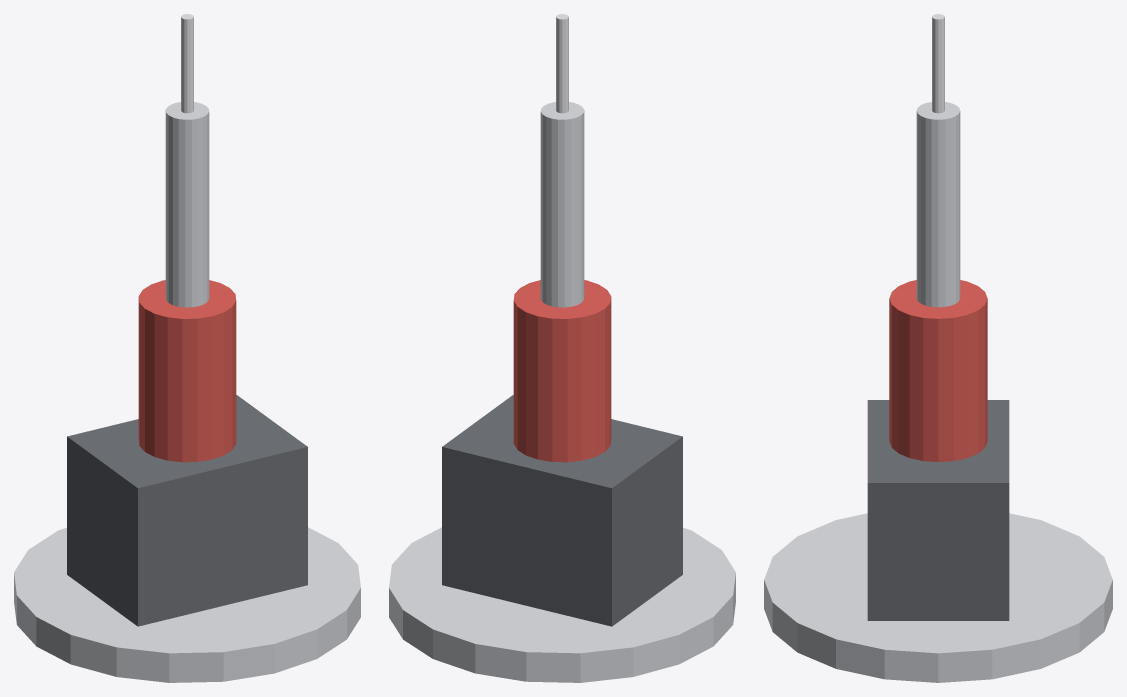
Rendered from iron.glb.
The picture shows the model from 3 angles, left to right: view 1: azimuth 30°, elevation 25°; view 2: azimuth 150°, elevation 25°; view 3: azimuth 270°, elevation 25°; orthographic projection.
Visible parts, largest first — view 1: block, plate, handle, sleeve, tip; view 2: block, plate, handle, sleeve, tip; view 3: plate, block, handle, sleeve, tip.
Boxes of the visible parts, box(x1,y1,x2,y2) form: block: box(67, 395, 307, 626); plate: box(14, 527, 360, 682); handle: box(138, 280, 236, 462); sleeve: box(165, 102, 209, 307); tip: box(181, 14, 193, 113); block: box(442, 395, 682, 626); plate: box(389, 527, 735, 682); handle: box(513, 280, 611, 462); sleeve: box(540, 102, 584, 307); tip: box(556, 14, 568, 113); plate: box(764, 513, 1112, 682); block: box(867, 400, 1009, 620); handle: box(889, 280, 987, 461); sleeve: box(916, 102, 960, 307); tip: box(932, 14, 944, 113).
Bounding box in the file's own units: 0.064 × 0.12 × 0.064.
